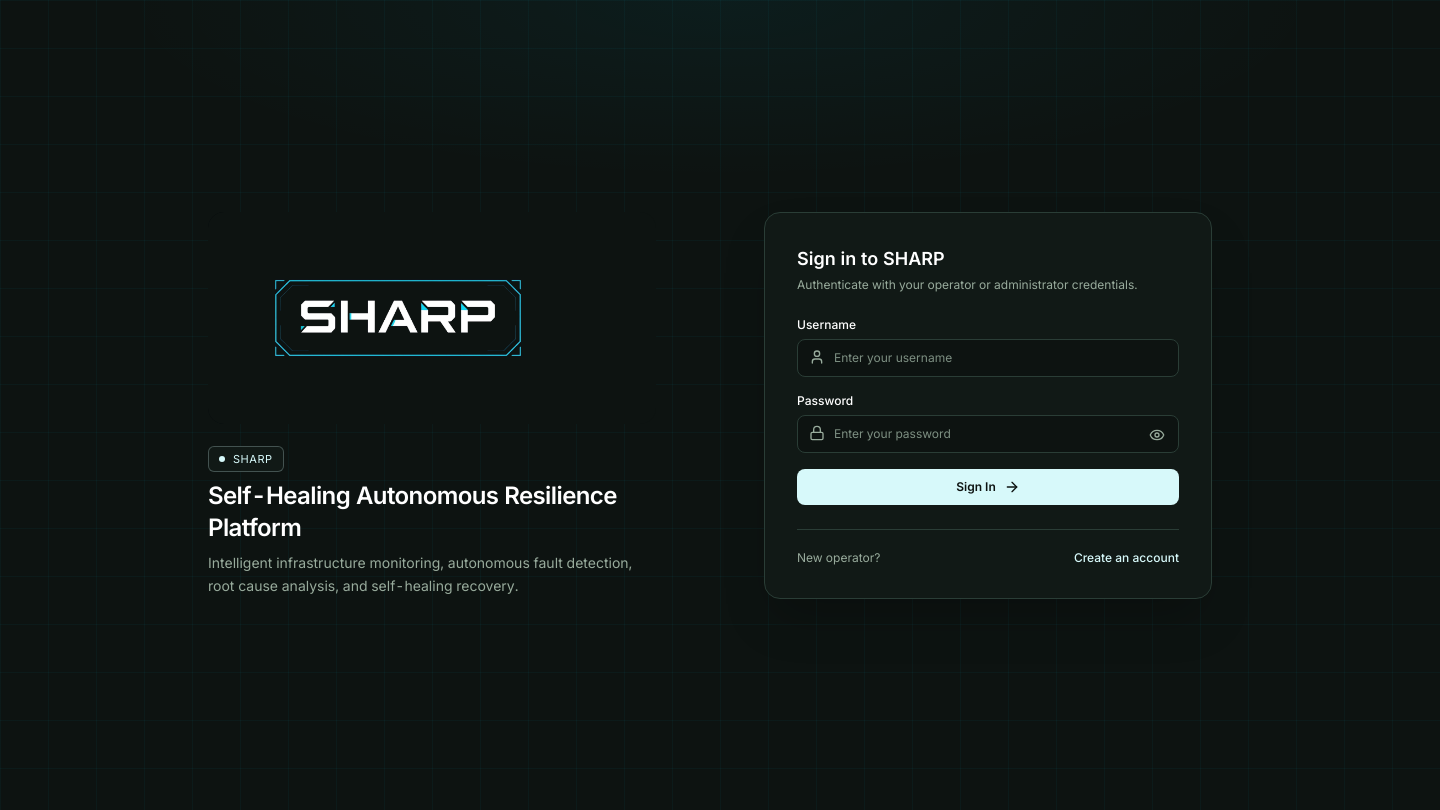
Authentication & Protected Routes › displays error message when login fails with 401
In the field labelled "Username": (988, 358) [797,338,1179,376], type "admin"
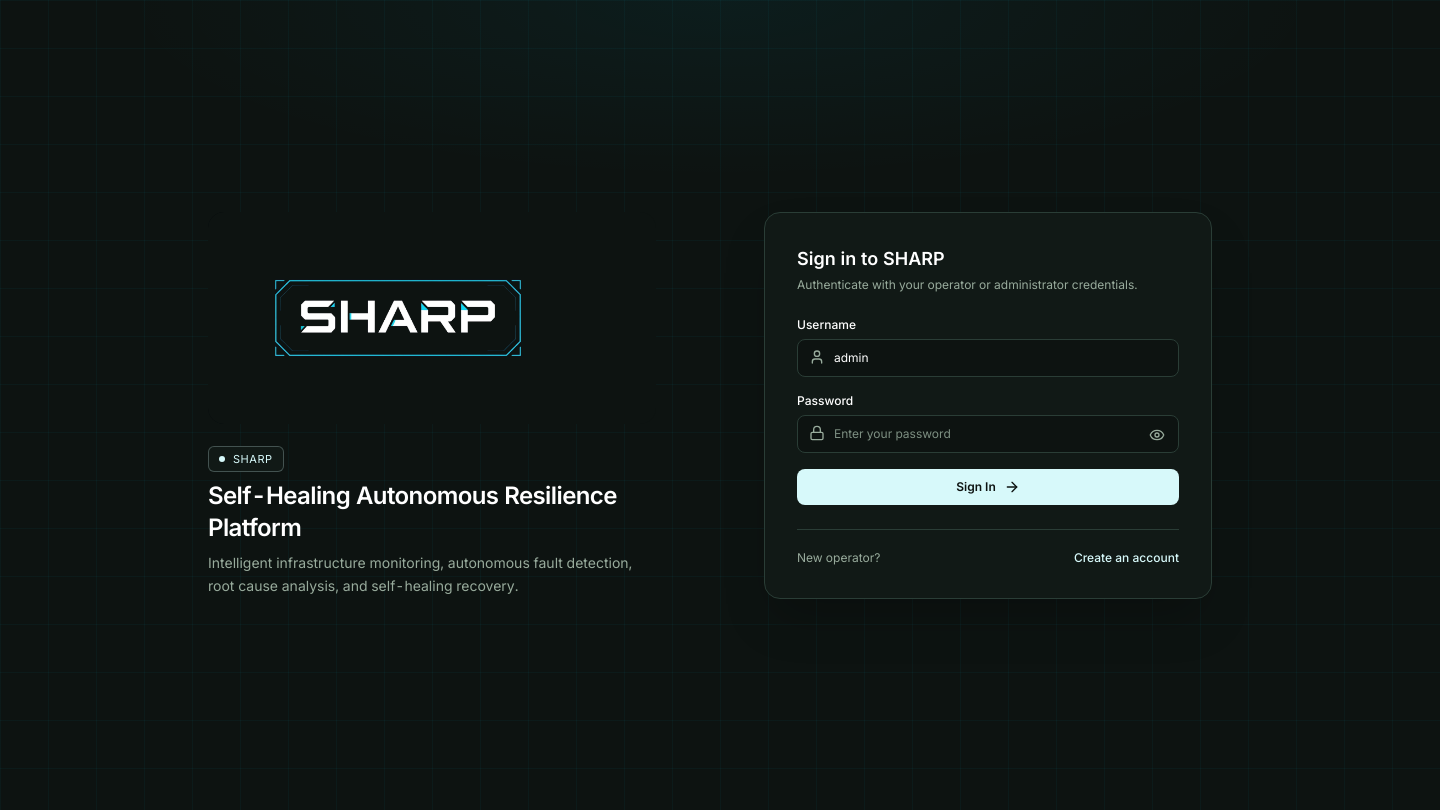
In the password field labelled "Password": (988, 434) [797,414,1179,452], type "wrong"
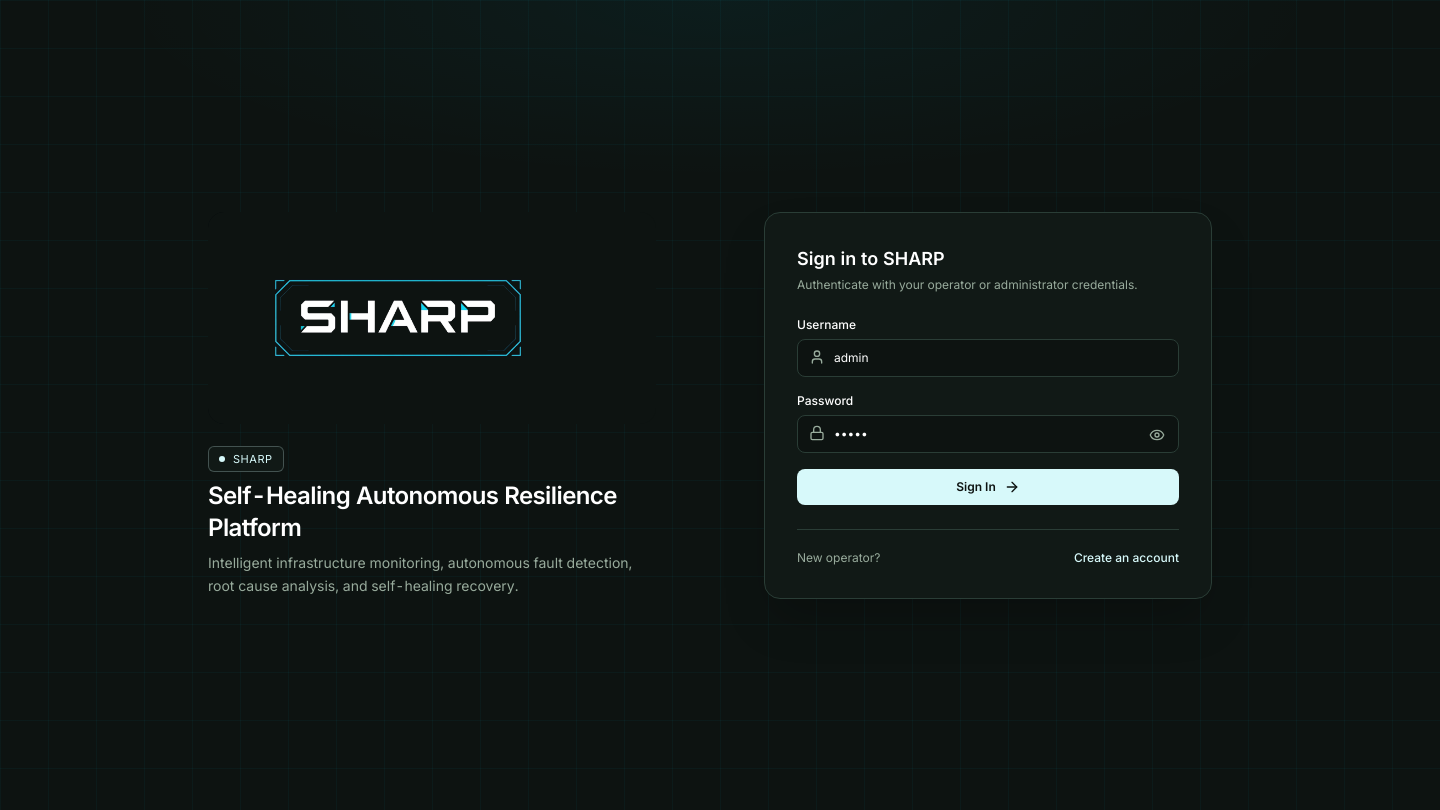
Click the button "Sign In": (988, 486) [797,468,1179,504]
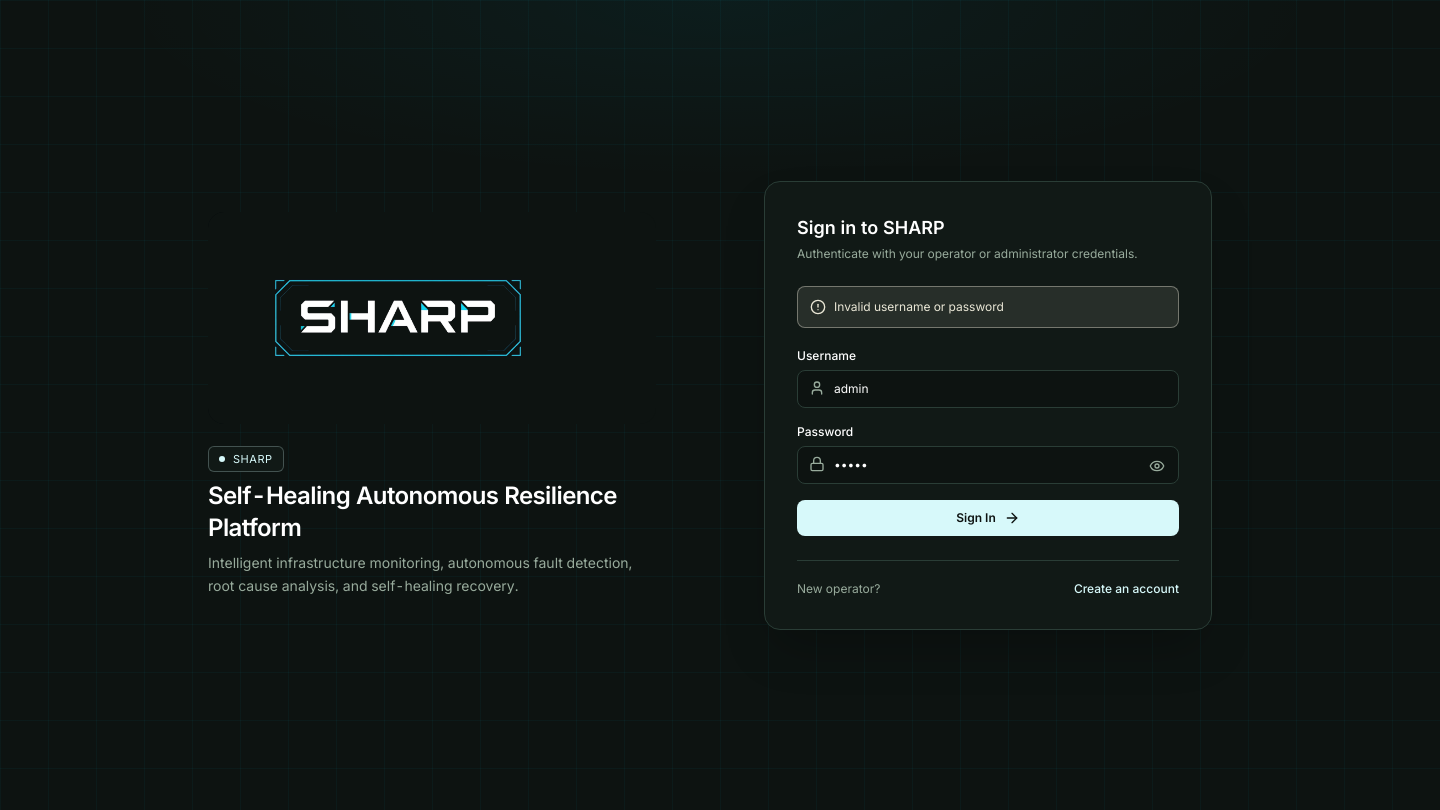
Check: the message reads "Invalid username or password", box [834,298,1004,314]
